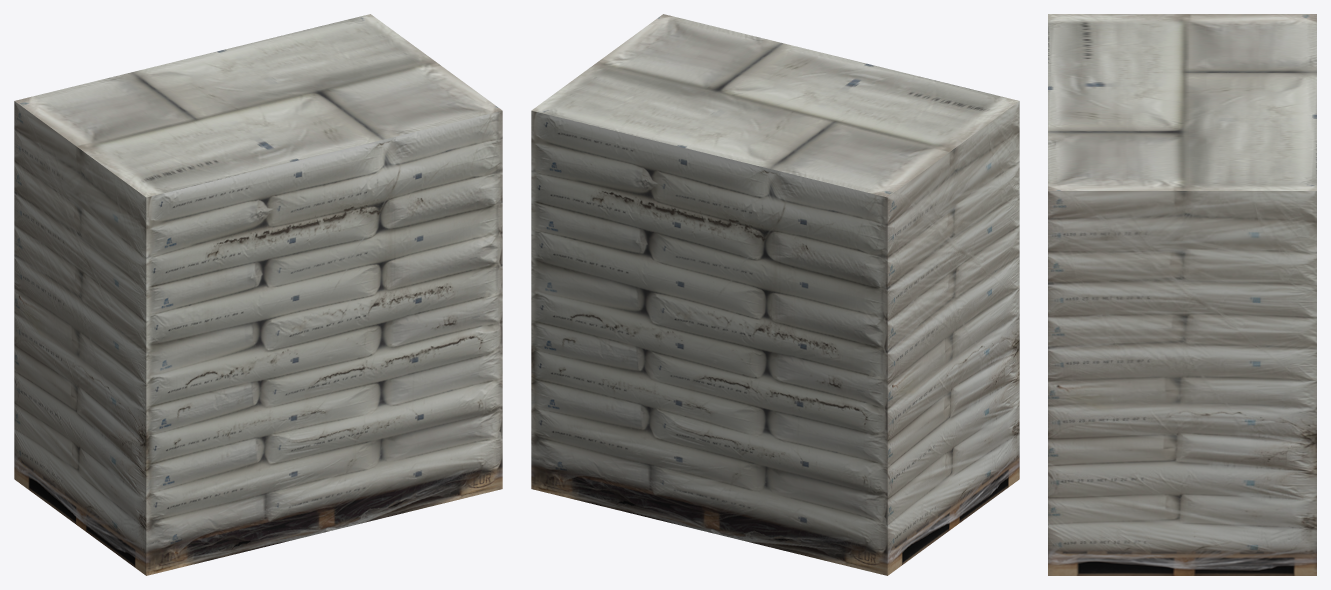
File: Bags_on_pallet_v1_1.FBX
The picture shows the model from 3 angles, left to right: view 1: azimuth 30°, elevation 25°; view 2: azimuth 150°, elevation 25°; view 3: azimuth 270°, elevation 25°; orthographic projection.
Visible parts, largest first — view 1: Bags_on_pallet_v1_1; view 2: Bags_on_pallet_v1_1; view 3: Bags_on_pallet_v1_1.
Boxes of the visible parts, x1,y1,x2,y2 form: Bags_on_pallet_v1_1: (14, 14, 502, 575); Bags_on_pallet_v1_1: (531, 14, 1019, 575); Bags_on_pallet_v1_1: (1048, 14, 1316, 575).
Bounding box in the file's own units: 2.5 × 2.53 × 1.6.
